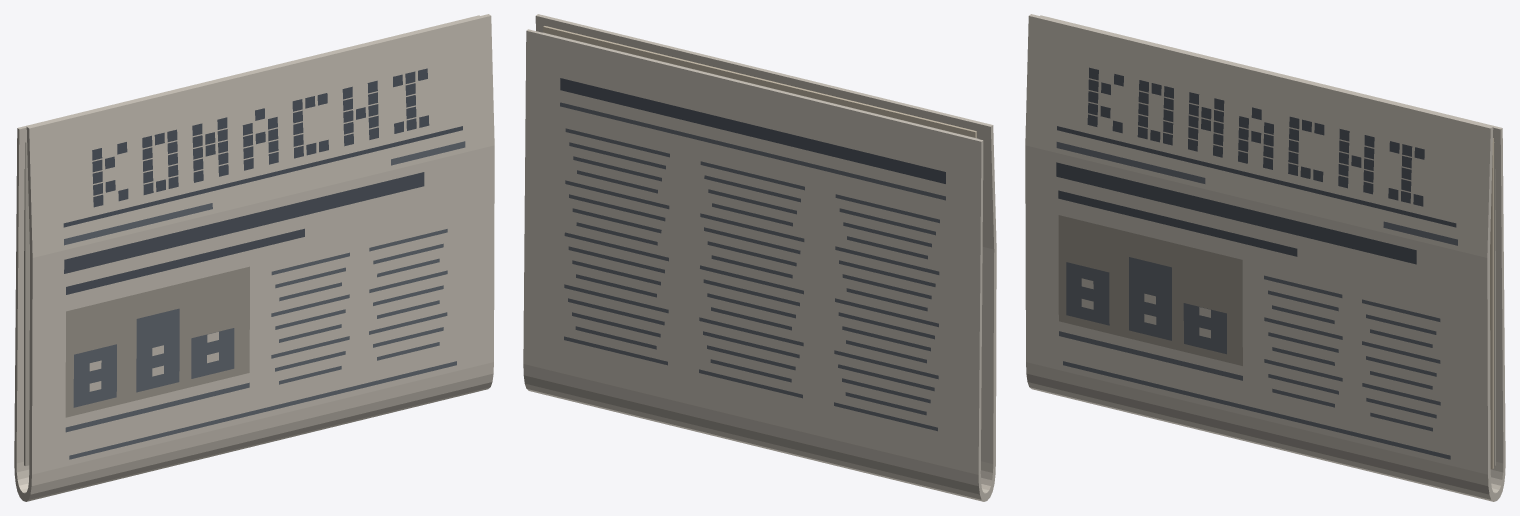
The model's file is komachi-newspaper.glb.
The picture shows the model from 3 angles, left to right: view 1: azimuth 30°, elevation 25°; view 2: azimuth 150°, elevation 25°; view 3: azimuth 330°, elevation 25°; orthographic projection.
Parts seen in each view (by area): view 1: Folded_Paper_And_Edges, Front_Page_Print; view 2: Folded_Paper_And_Edges, Back_Page_Print; view 3: Folded_Paper_And_Edges, Front_Page_Print.
Boxes of the visible parts, left/top/right/bottom form: Folded_Paper_And_Edges: left=14, top=14, right=494, bottom=501; Front_Page_Print: left=63, top=68, right=465, bottom=459; Folded_Paper_And_Edges: left=523, top=14, right=996, bottom=501; Back_Page_Print: left=560, top=78, right=945, bottom=431; Folded_Paper_And_Edges: left=1025, top=14, right=1505, bottom=501; Front_Page_Print: left=1056, top=67, right=1457, bottom=459.
Bounding box in the file's own units: 0.118 × 0.092 × 0.00826.
